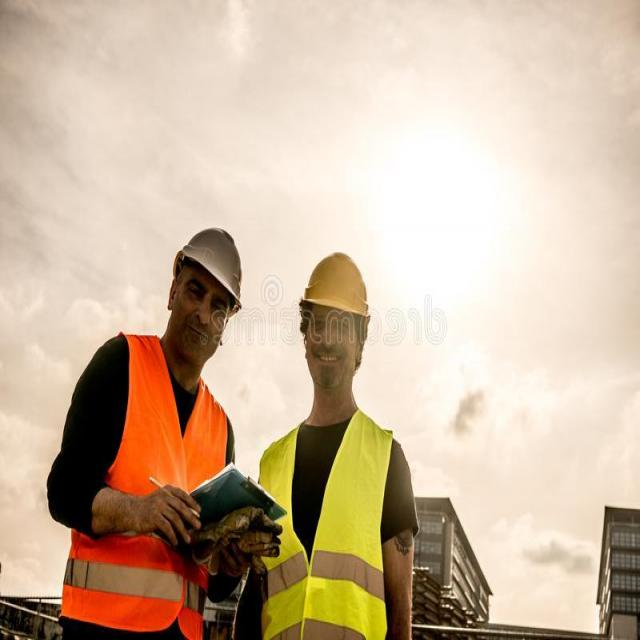Reflective-Jacket: (55, 335, 229, 640), (254, 403, 401, 640)
Safety-Helmet: (170, 220, 248, 312), (296, 245, 374, 323)
